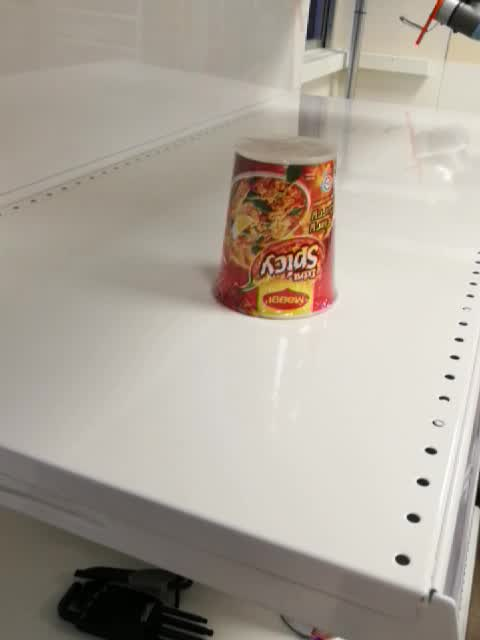maggi: (209, 135, 343, 322)
